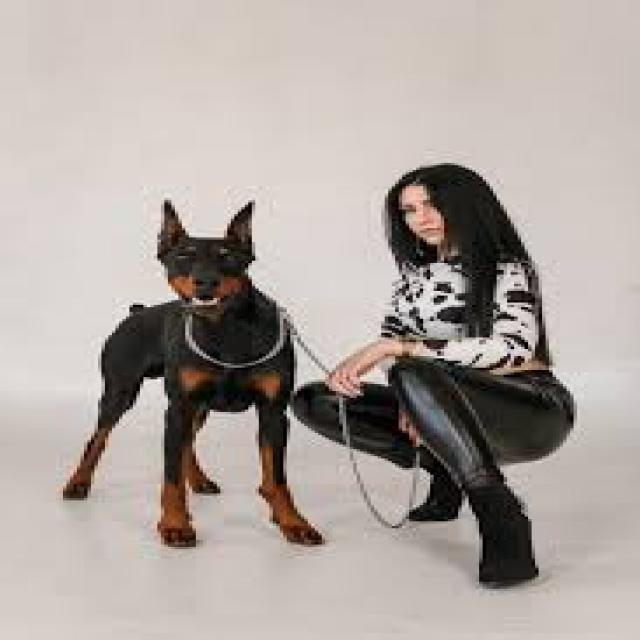Dog: (49, 191, 330, 556)
